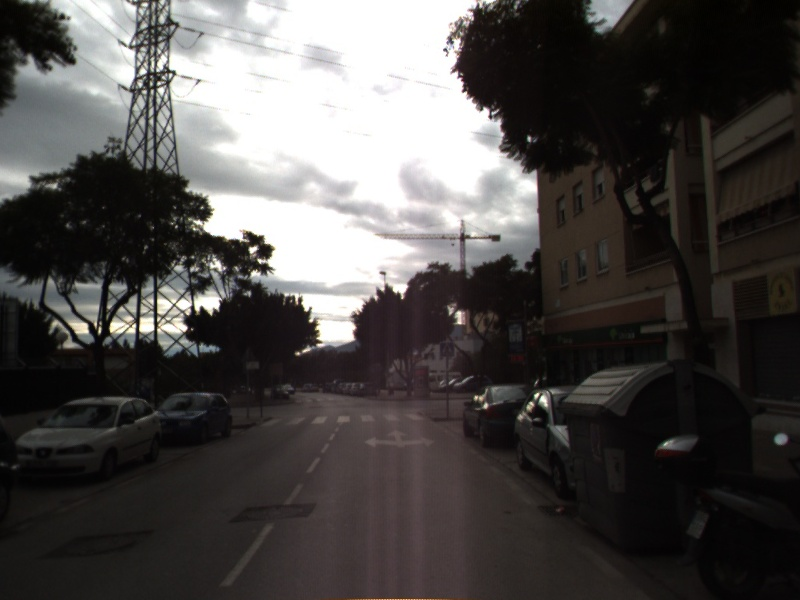STRAIGHT_LEFT_RIGHT: (362, 427, 438, 450)
